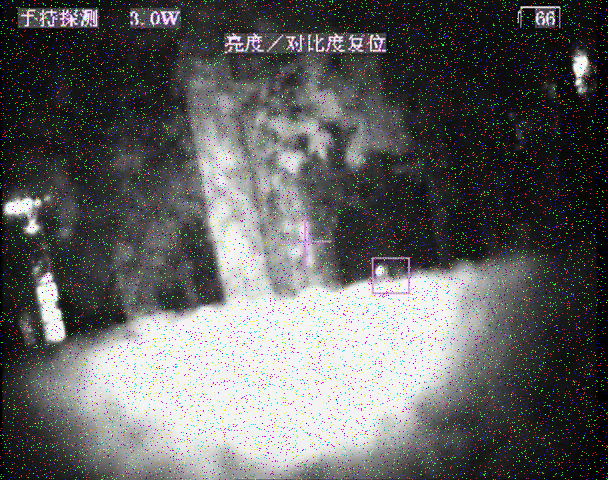my: (373, 264, 386, 277)
